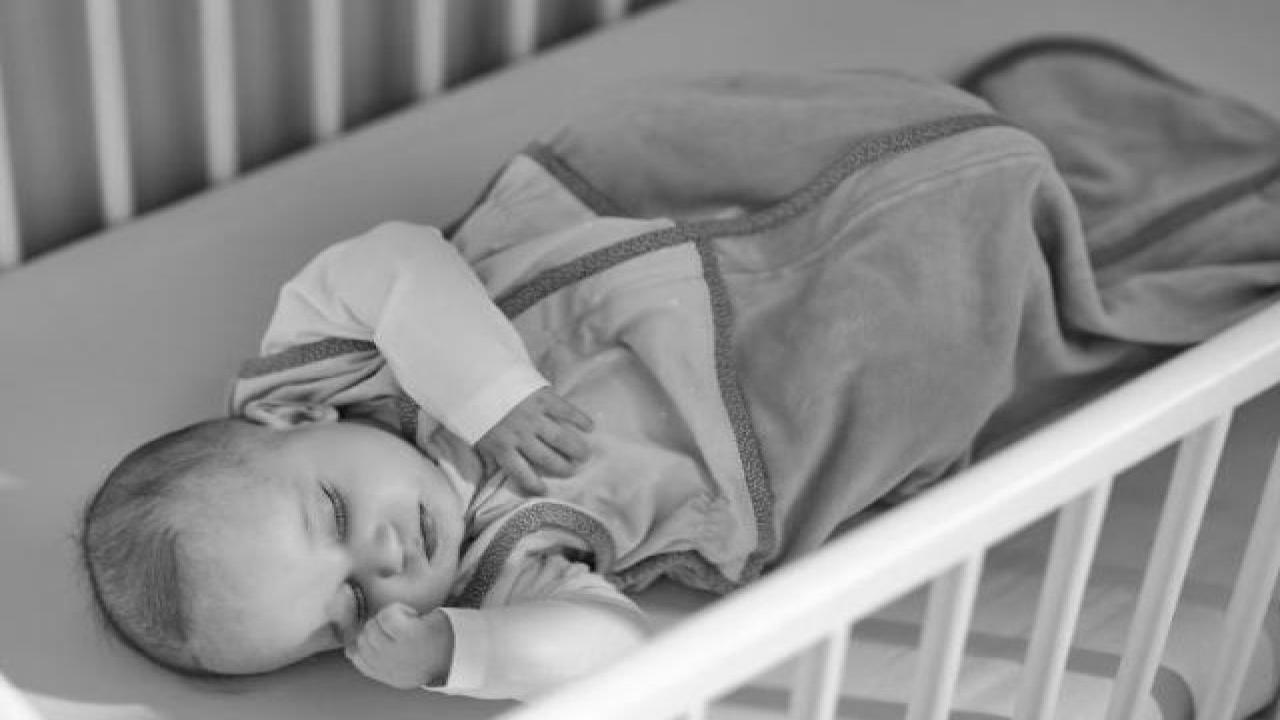hand: (470, 398, 590, 496), (349, 604, 424, 686)
